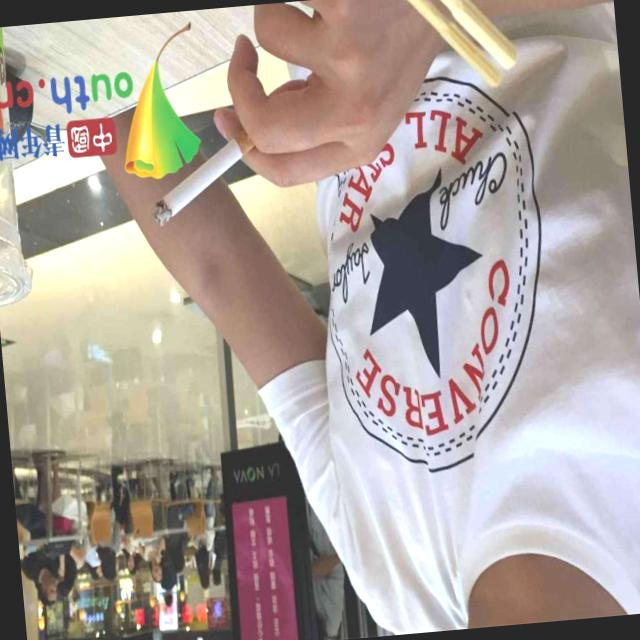cigarette: (142, 124, 271, 233)
